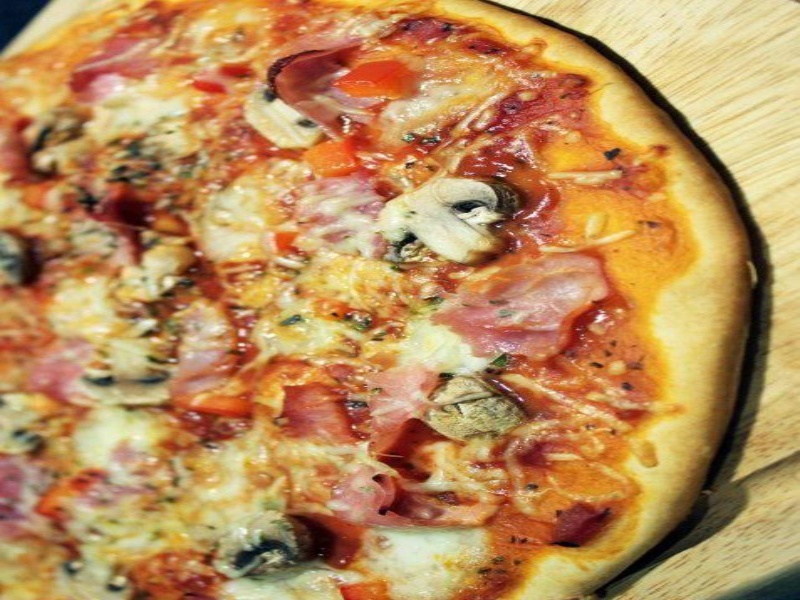champignon: (375, 172, 521, 273)
